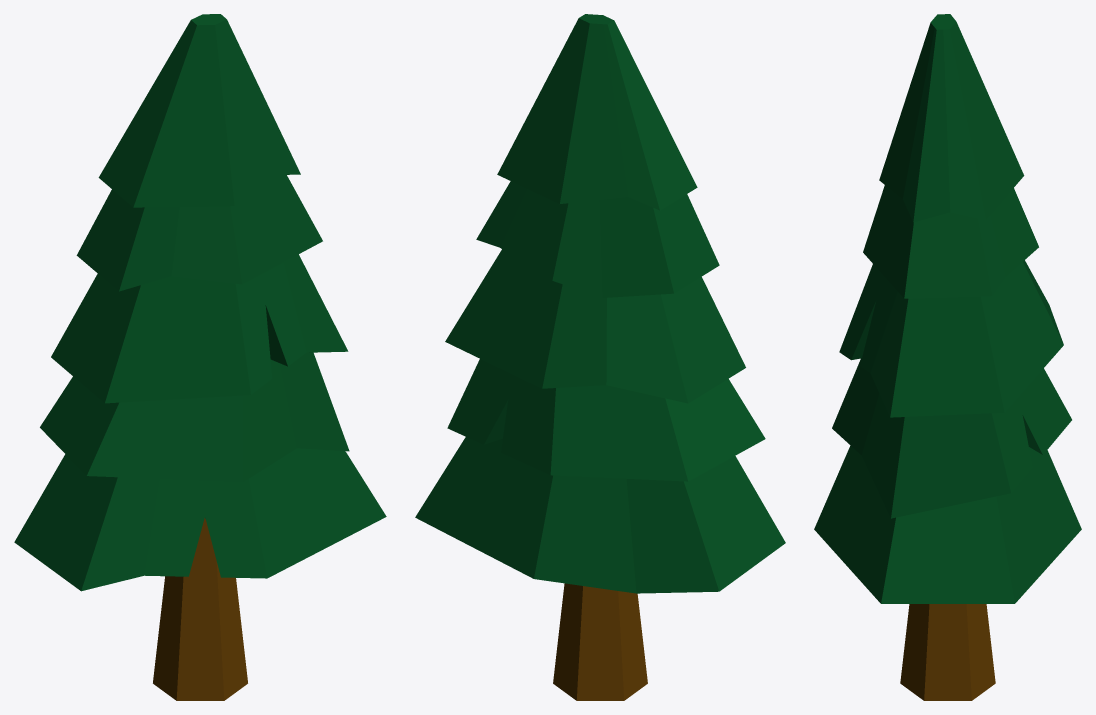
Rendered from TreeV2.fbx.
The picture shows the model from 3 angles, left to right: view 1: azimuth 30°, elevation 25°; view 2: azimuth 150°, elevation 25°; view 3: azimuth 270°, elevation 25°; orthographic projection.
Visible parts, largest first — view 1: Cylinder; view 2: Cylinder; view 3: Cylinder.
Boxes of the visible parts, x1,y1,x2,y2 form: Cylinder: [14, 14, 386, 700]; Cylinder: [415, 14, 785, 700]; Cylinder: [814, 14, 1081, 700].
Bounding box in the file's own units: 370 × 770 × 281.
